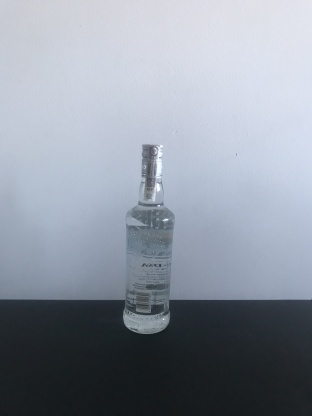nakretka: (139, 139, 165, 179)
